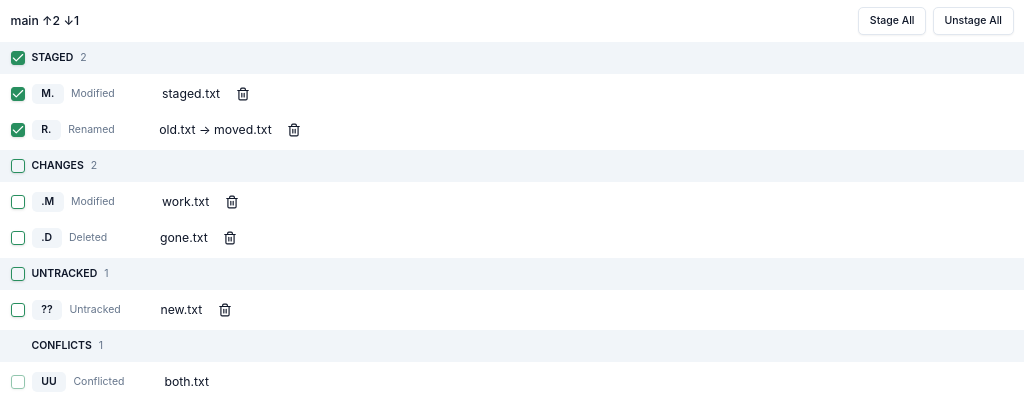
StagingView › branch indicator updates from the adopted echo
The image size is (1024, 409).
Click the checkbox named "Stage work.txt" at (18, 202), box [10,195,24,209]
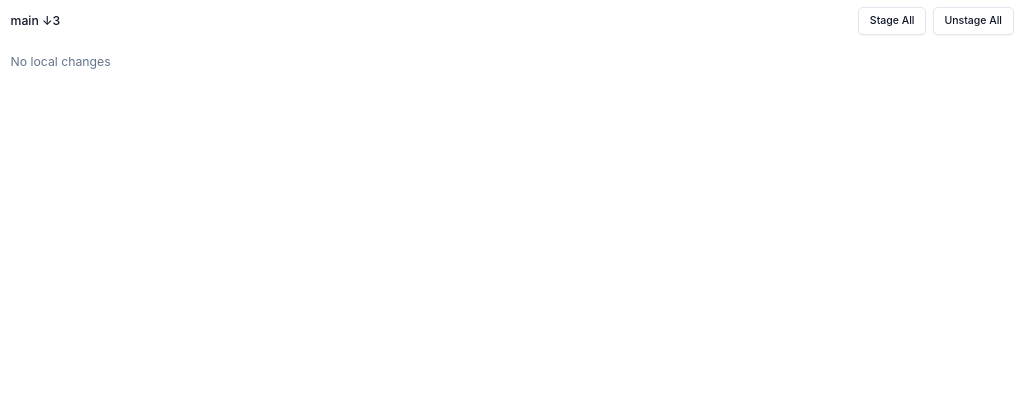
Check: the text with test id "staging-branch" reads "main ↓3", box [10,13,60,28]
